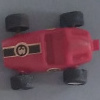verde_oeste: (2, 12, 99, 88)
